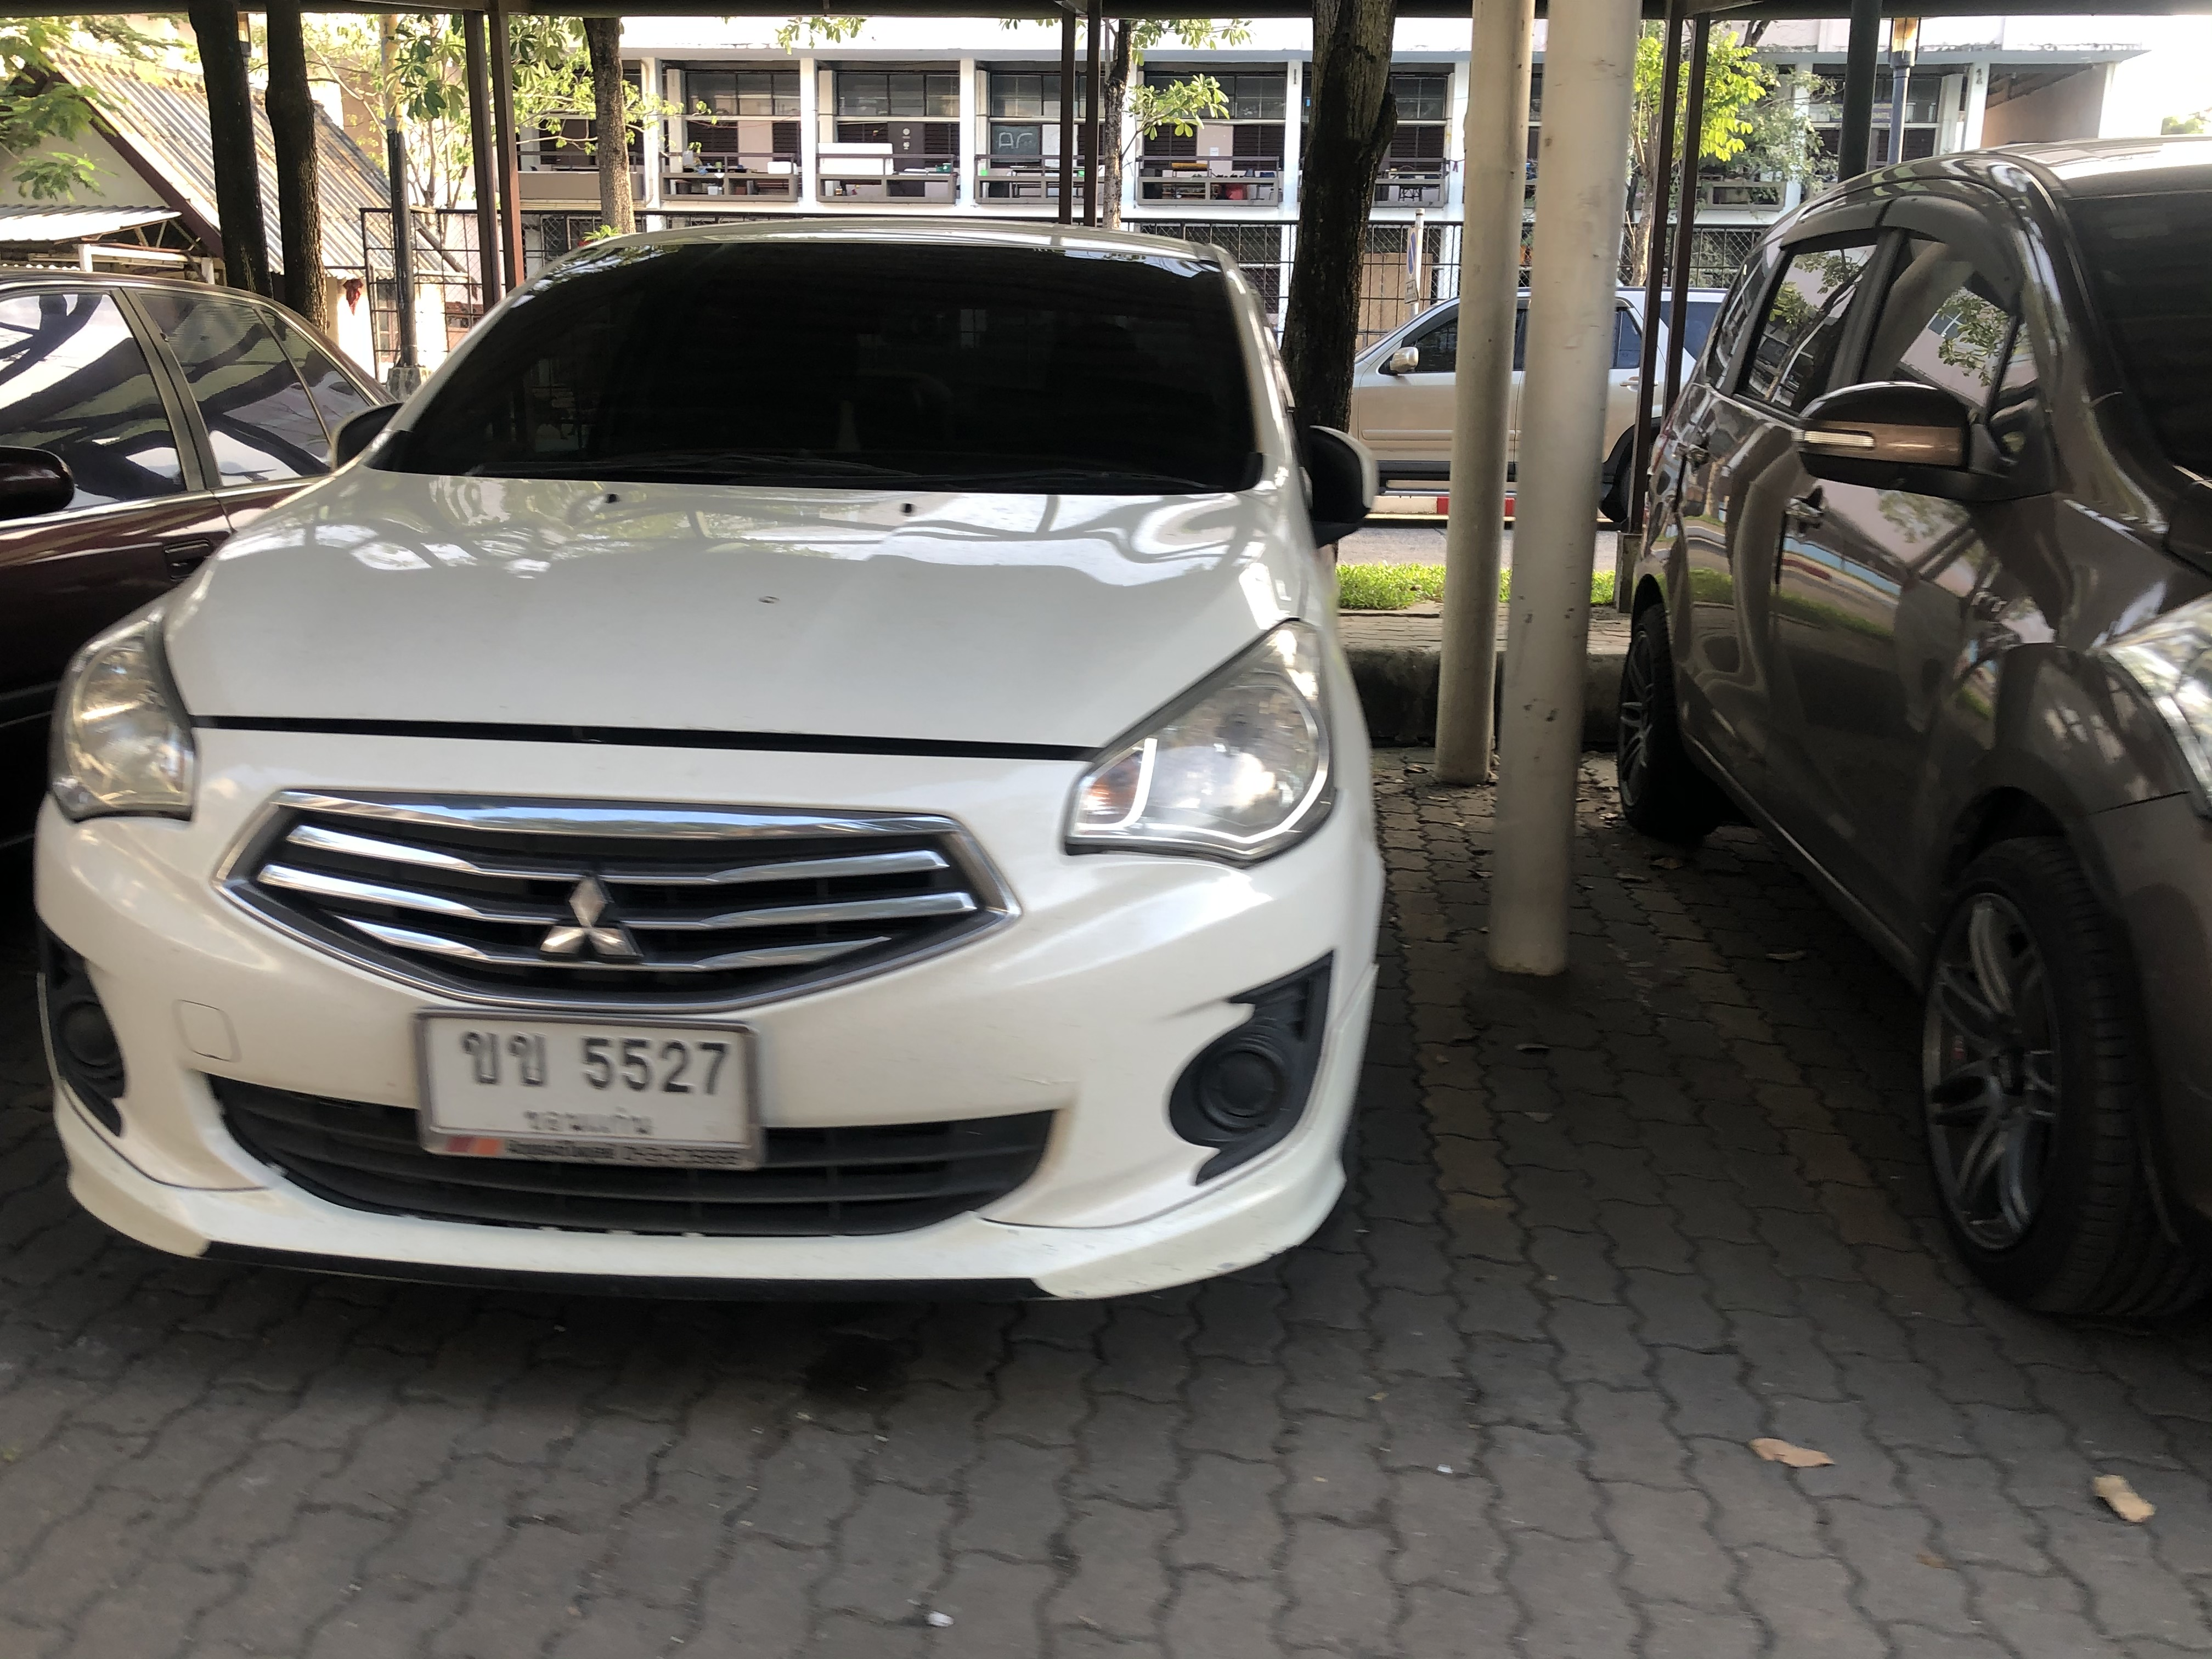in: (425, 1019, 749, 1148)
out: (416, 1006, 761, 1171)
